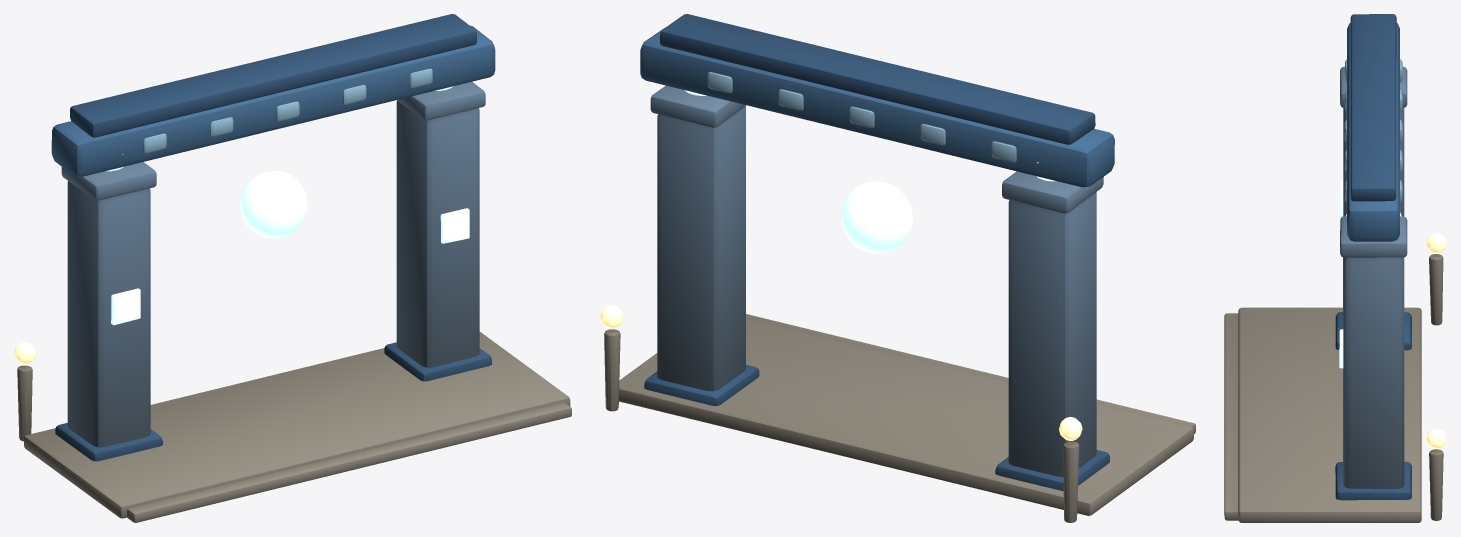
3 renders of one model, left to right at view 1: azimuth 30°, elevation 25°; view 2: azimuth 150°, elevation 25°; view 3: azimuth 270°, elevation 25°, orthographic. The views are drawn at different scales.
Parts seen in each view (by area): view 1: gate_27f99b9d; view 2: gate_27f99b9d; view 3: gate_27f99b9d.
Part boxes in pixels (<box>): gate_27f99b9d: <box>14,14,571,522</box>; gate_27f99b9d: <box>600,14,1195,522</box>; gate_27f99b9d: <box>1224,14,1446,522</box>.
Bounding box in the file's own units: 5.56 × 4.07 × 2.54.
